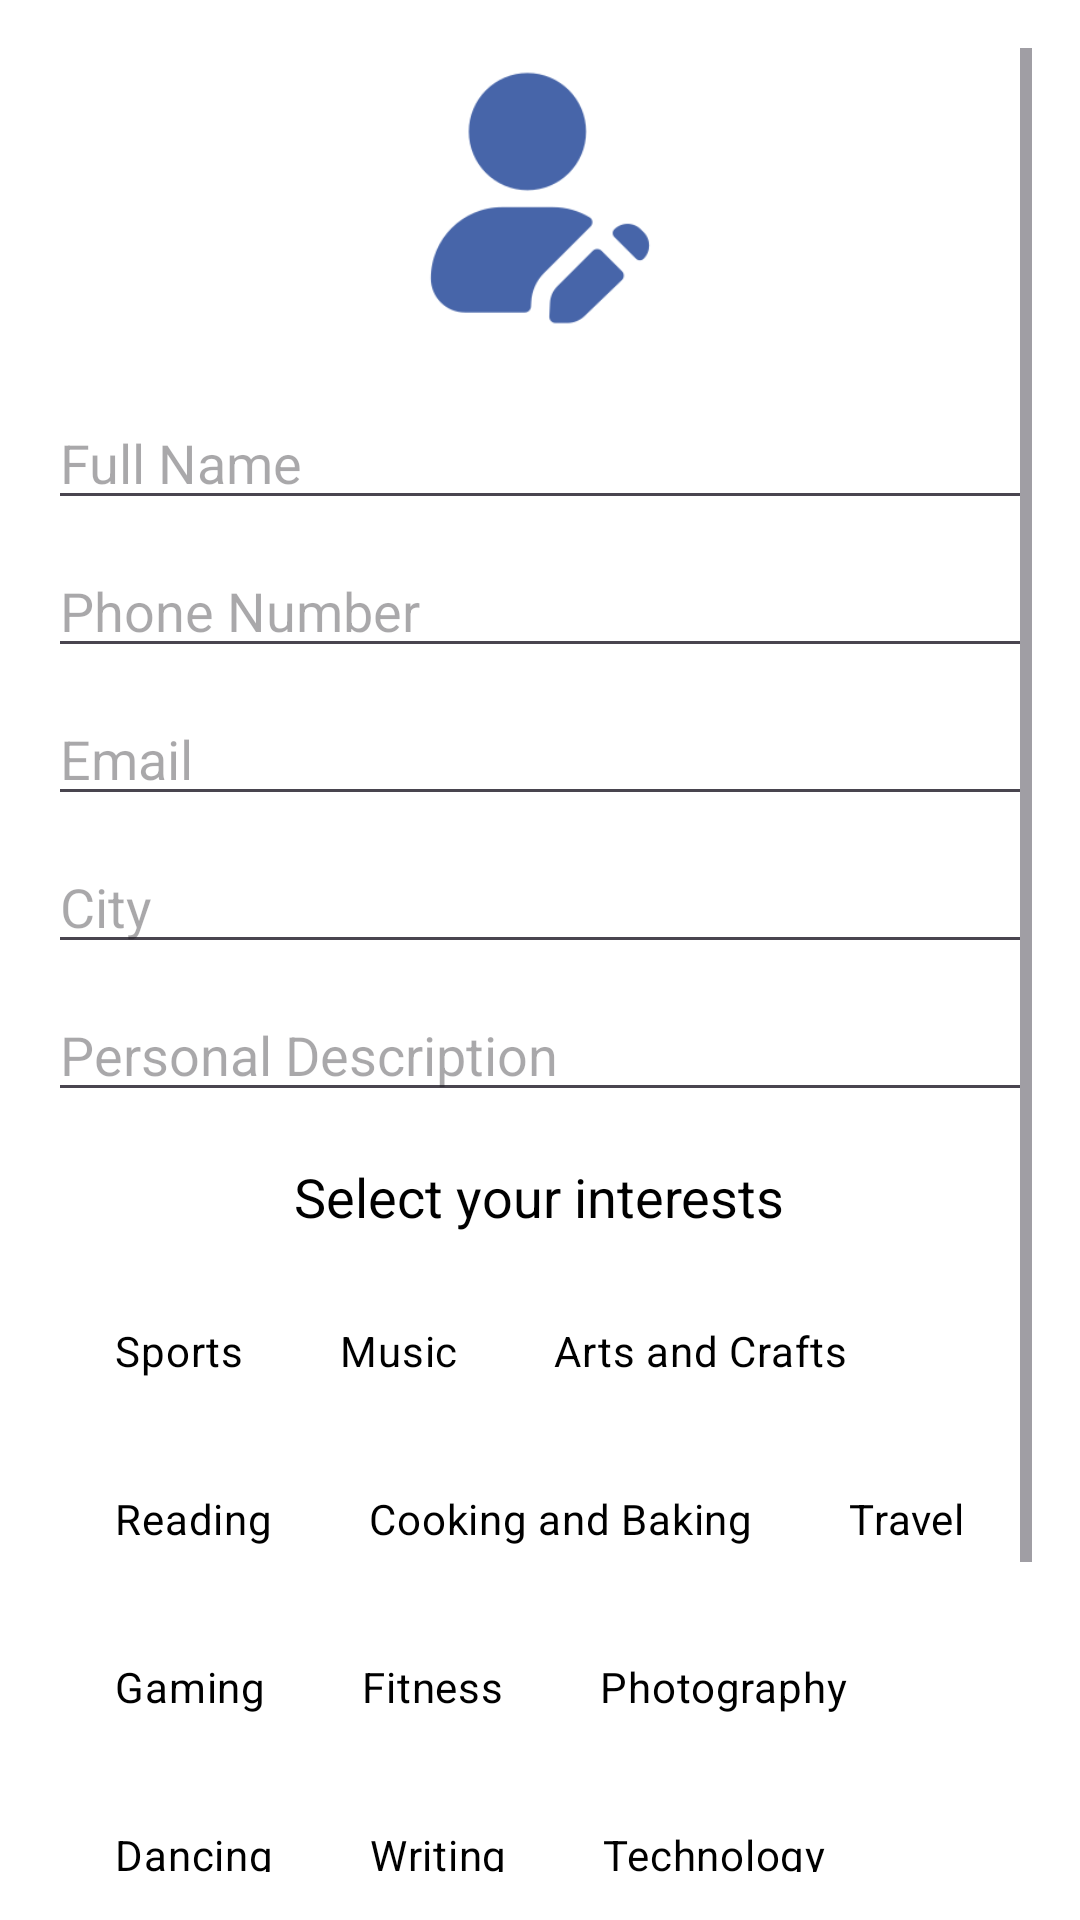

Point at icon controls on the screen. Image size 1080px×1920px, points as point (x, y).
Profile Image: point (540, 198)
